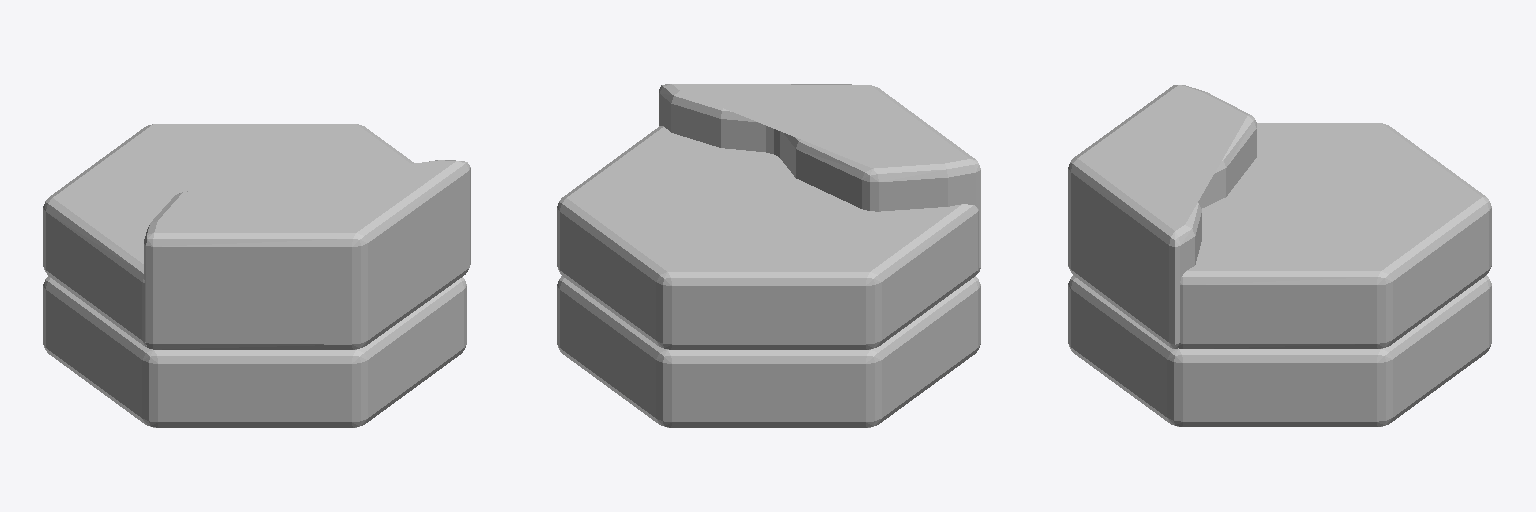
Rendered from ground_water_grass3.obj.
The picture shows the model from 3 angles: view 1: azimuth 30°, elevation 25°; view 2: azimuth 150°, elevation 25°; view 3: azimuth 270°, elevation 25°; orthographic projection.
Parts seen in each view (by area): view 1: ground_water_grass3; view 2: ground_water_grass3; view 3: ground_water_grass3.
Boxes of the visible parts, <box> form: ground_water_grass3: <box>43,124,470,427</box>; ground_water_grass3: <box>557,84,980,427</box>; ground_water_grass3: <box>1068,85,1491,426</box>.
Bounding box in the file's own units: 6.97 × 4 × 7.9.